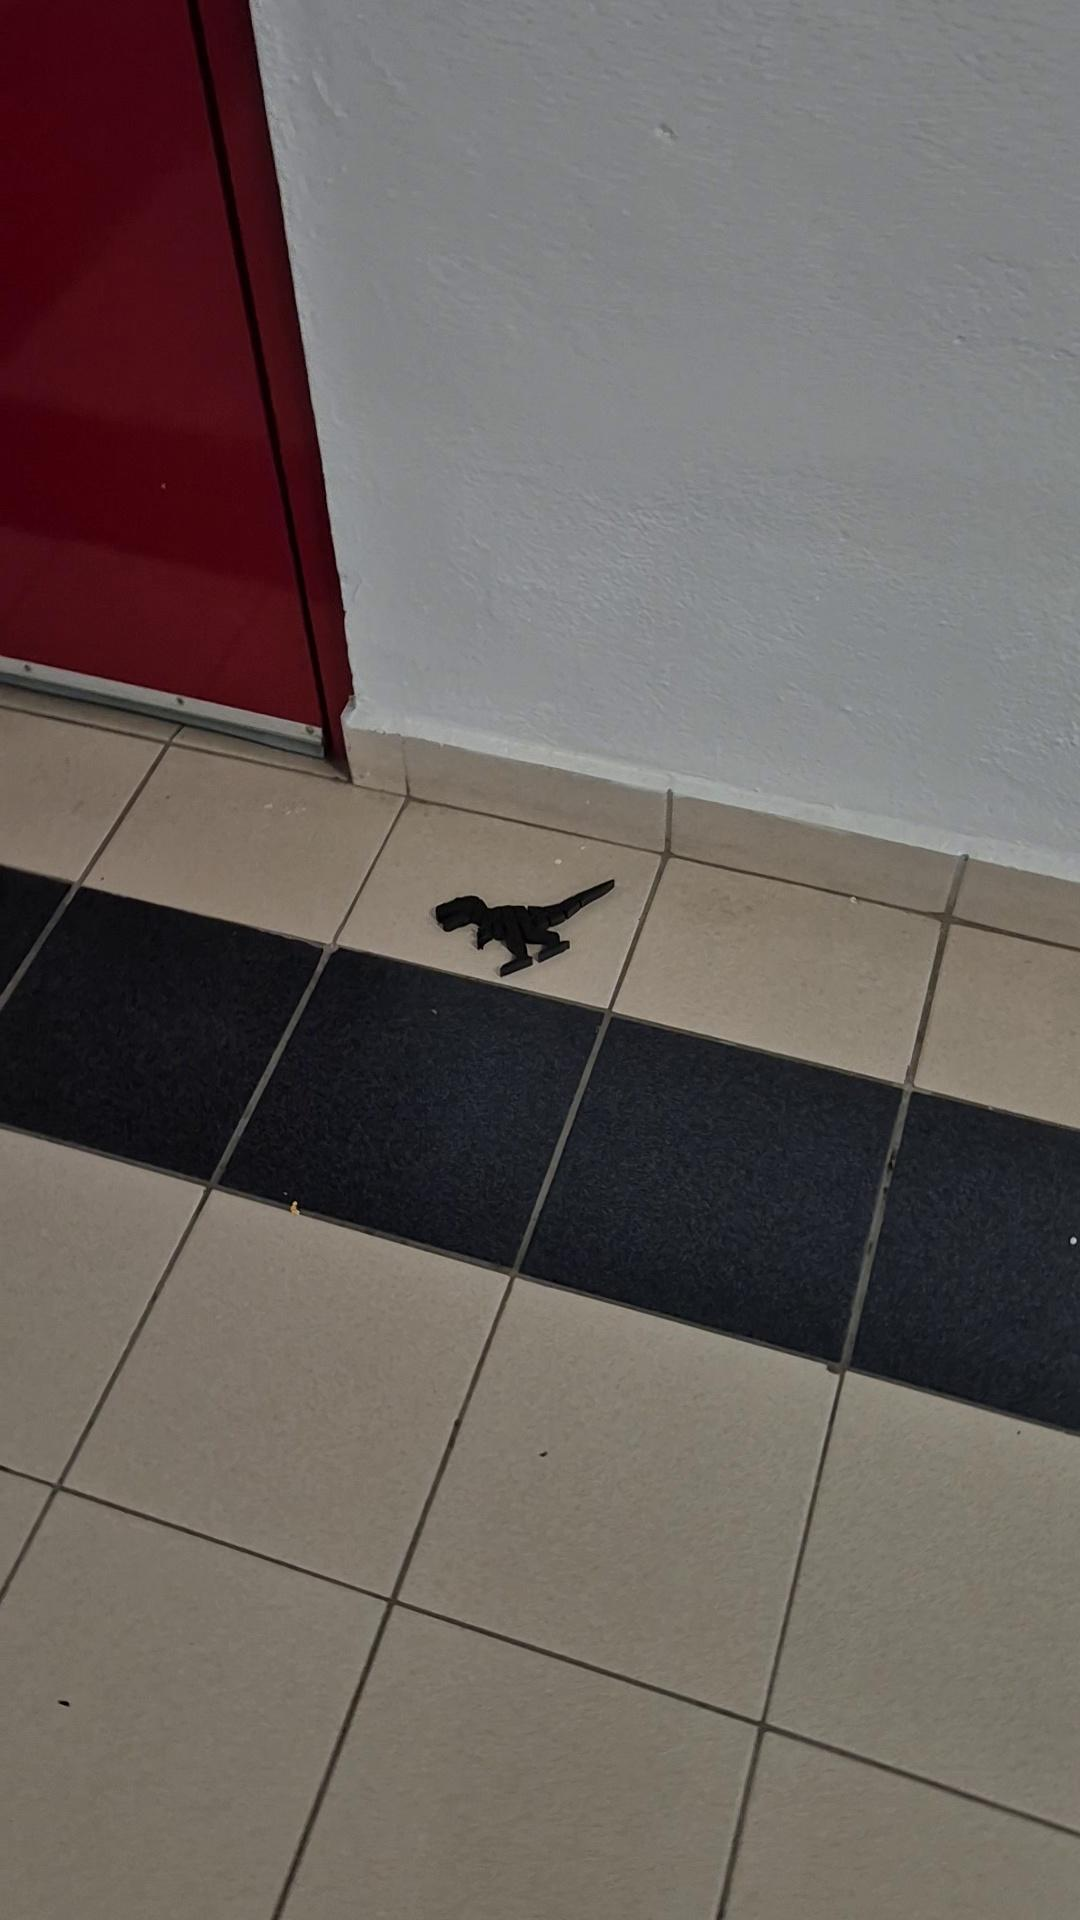dinosaur: (434, 878, 616, 978)
